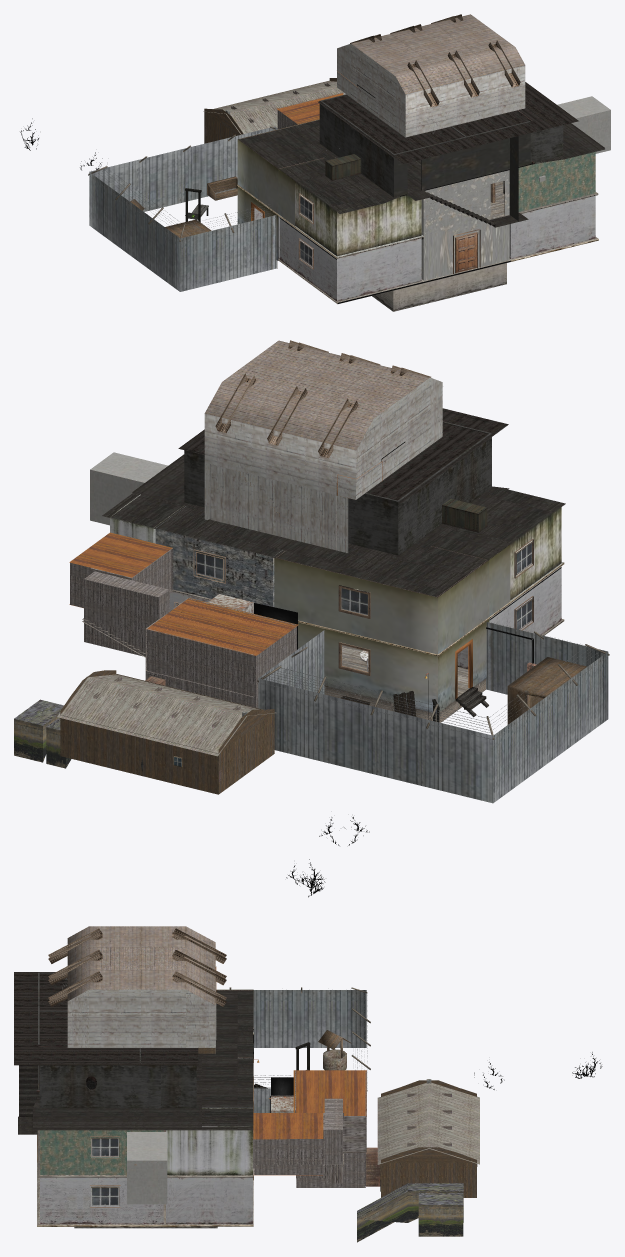
Rendered from _preview.glb.
The picture shows the model from 3 angles, top to bottom: view 1: azimuth 30°, elevation 25°; view 2: azimuth 150°, elevation 25°; view 3: azimuth 270°, elevation 25°; orthographic projection. The views are drawn at different scales.
Parts seen in each view (by area): view 1: Klockdel_15_emissive.jpg, HouseUpdateVind1_1.001_diffuse_scale0.jpg, Klockdel_10_diffuse.jpg, Klockdel_18_diffuse.jpg, Klockdel_16_diffuse.jpg, HouseFloorBaked2Test3.001_diffuse.jpg, Klockdel_52_diffuse.jpg, Klockdel_12_diffuse.jpg, Klockdel_31_diffuse.jpg, Klockdel_45_diffuse_scale5.jpg; view 2: Klockdel_10_diffuse.jpg, Klockdel_18_diffuse.jpg, HouseUpdateVind1_1.001_diffuse_scale0.jpg, Klockdel_12_diffuse.jpg, Klockdel_16_diffuse.jpg, Klockdel_15_emissive.jpg, Klockdel_52_diffuse.jpg, Klockdel_23_diffuse.jpg, BarbedWire_diffuse.png, HouseFloorBaked2Test3.001_diffuse.jpg, Klockdel_41_diffuse_scale5.jpg; view 3: HouseUpdateVind1_1.001_diffuse_scale0.jpg, Klockdel_18_diffuse.jpg, Klockdel_15_emissive.jpg, Klockdel_12_diffuse.jpg, Klockdel_16_diffuse.jpg, Klockdel_10_diffuse.jpg, Klockdel_23_diffuse.jpg, Klockdel_52_diffuse.jpg, HouseFloorBaked2Test3.001_diffuse.jpg.
Part boxes in pixels (box(x1,y1,x2,y2)): Klockdel_15_emissive.jpg: box(239, 119, 595, 311); HouseUpdateVind1_1.001_diffuse_scale0.jpg: box(238, 82, 604, 227); Klockdel_10_diffuse.jpg: box(88, 119, 319, 291); Klockdel_18_diffuse.jpg: box(337, 14, 525, 137); Klockdel_16_diffuse.jpg: box(203, 78, 342, 143); HouseFloorBaked2Test3.001_diffuse.jpg: box(237, 181, 598, 304); Klockdel_52_diffuse.jpg: box(539, 96, 610, 181); Klockdel_12_diffuse.jpg: box(276, 92, 343, 128); Klockdel_31_diffuse.jpg: box(455, 232, 477, 272); Klockdel_45_diffuse_scale5.jpg: box(185, 188, 208, 222); Klockdel_10_diffuse.jpg: box(257, 545, 609, 803); Klockdel_18_diffuse.jpg: box(204, 340, 442, 552); HouseUpdateVind1_1.001_diffuse_scale0.jpg: box(102, 408, 565, 597); Klockdel_12_diffuse.jpg: box(69, 532, 298, 708); Klockdel_16_diffuse.jpg: box(57, 670, 276, 794); Klockdel_15_emissive.jpg: box(110, 492, 561, 675); Klockdel_52_diffuse.jpg: box(90, 452, 167, 525); Klockdel_23_diffuse.jpg: box(14, 699, 71, 768); BarbedWire_diffuse.png: box(258, 622, 609, 739); HouseFloorBaked2Test3.001_diffuse.jpg: box(172, 562, 564, 696); Klockdel_41_diffuse_scale5.jpg: box(340, 687, 488, 717); HouseUpdateVind1_1.001_diffuse_scale0.jpg: box(14, 972, 253, 1134); Klockdel_18_diffuse.jpg: box(48, 926, 226, 1053); Klockdel_15_emissive.jpg: box(37, 990, 253, 1228); Klockdel_12_diffuse.jpg: box(253, 1070, 366, 1187); Klockdel_16_diffuse.jpg: box(366, 1079, 479, 1197); Klockdel_10_diffuse.jpg: box(216, 987, 370, 1112); Klockdel_23_diffuse.jpg: box(357, 1183, 463, 1242); Klockdel_52_diffuse.jpg: box(127, 1132, 167, 1204); HouseFloorBaked2Test3.001_diffuse.jpg: box(37, 1063, 253, 1226).
Size of the model in its own units: 28.99 by 16.23 by 33.38.
Materials: 73 (73 with a texture image).
